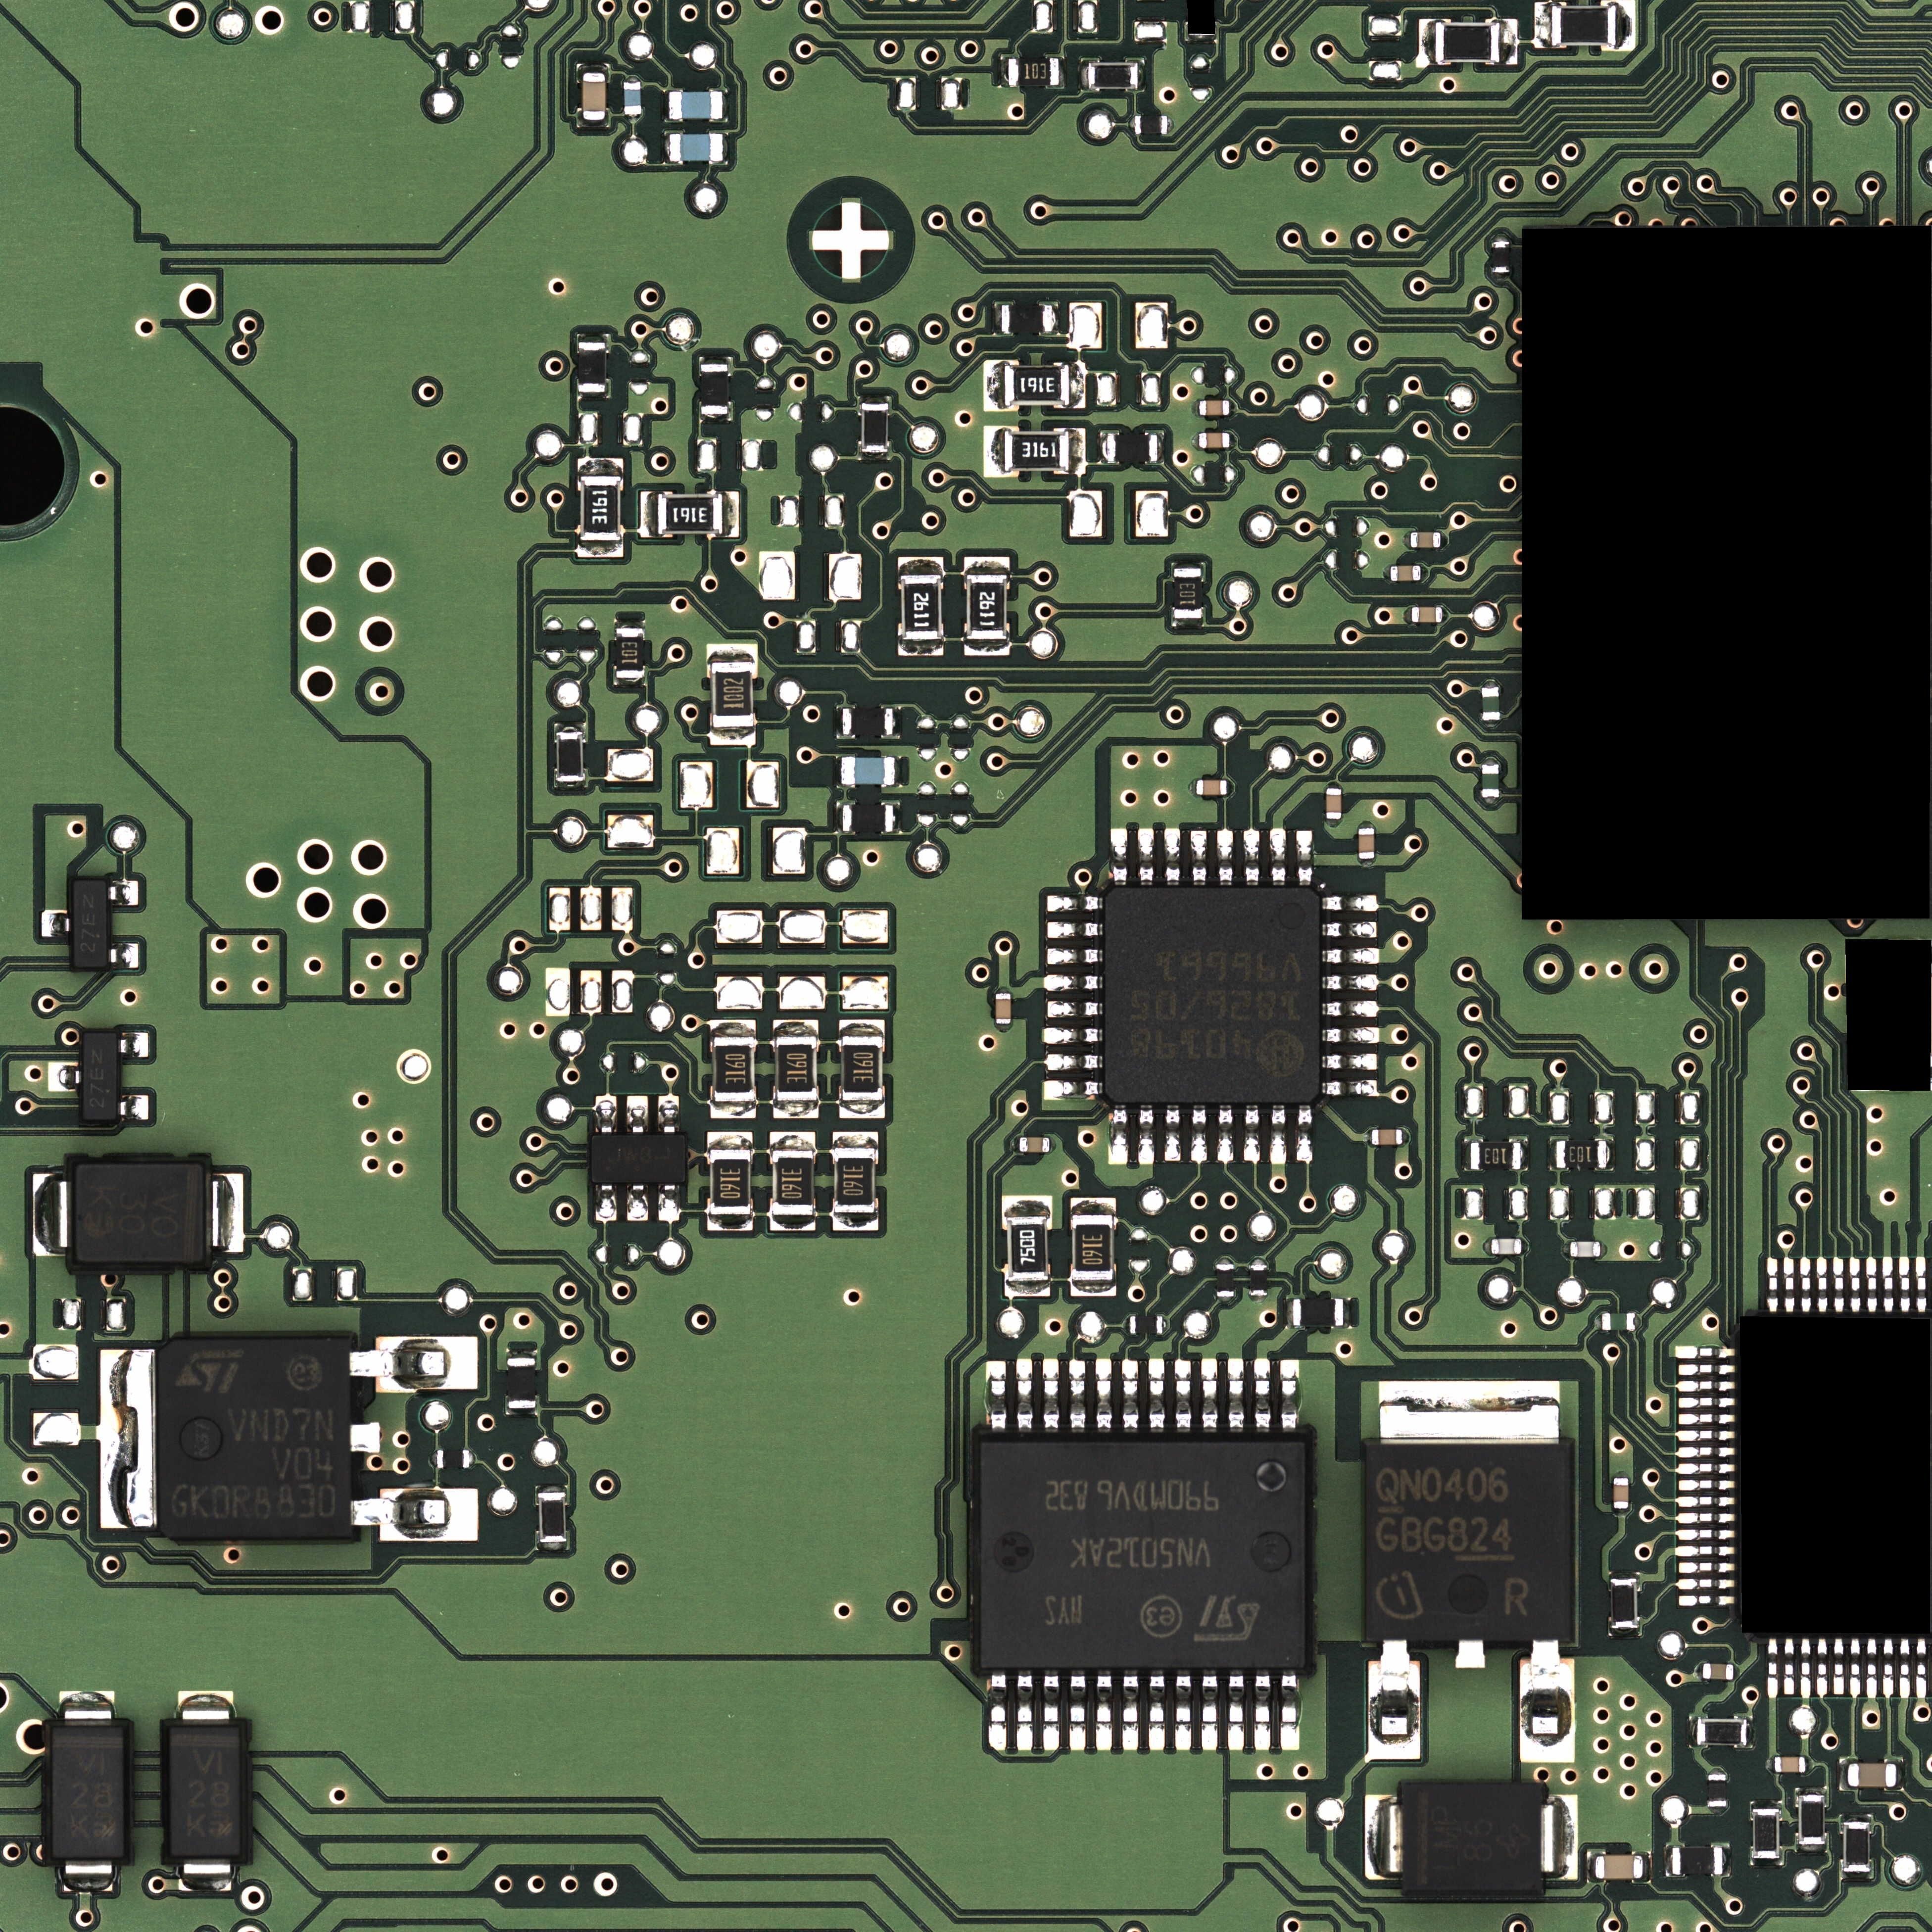Package: (978, 1442, 1306, 1668), (1104, 886, 1320, 1102), (1366, 1444, 1573, 1638), (156, 1338, 350, 1537), (1405, 1785, 1541, 1890), (74, 1164, 205, 1263), (50, 1727, 124, 1858), (168, 1727, 241, 1858), (591, 1134, 686, 1184), (81, 1031, 119, 1122), (71, 879, 108, 968), (1003, 364, 1070, 407), (711, 662, 754, 727), (833, 1148, 876, 1214), (713, 1037, 755, 1102), (775, 1037, 817, 1100), (840, 1037, 883, 1100), (901, 575, 941, 640), (580, 476, 621, 541), (773, 1150, 814, 1215), (1072, 1215, 1113, 1281), (658, 494, 722, 534), (709, 1150, 750, 1214), (966, 575, 1007, 639), (1552, 5, 1615, 46), (1007, 1217, 1047, 1281), (1003, 432, 1069, 471), (1435, 23, 1499, 62), (840, 757, 895, 786), (669, 133, 722, 161), (669, 92, 722, 120), (842, 708, 893, 736), (1008, 58, 1060, 87), (1001, 304, 1053, 333), (1106, 433, 1157, 462), (1672, 1847, 1723, 1875), (616, 628, 644, 678), (701, 364, 729, 414), (508, 1359, 536, 1408), (1293, 1299, 1343, 1327), (842, 805, 893, 832), (1555, 1141, 1606, 1168), (1470, 1143, 1522, 1169), (540, 1493, 566, 1543), (1175, 568, 1201, 617), (1844, 1822, 1870, 1872), (579, 343, 605, 391), (862, 403, 888, 451), (1088, 64, 1138, 88), (1697, 1720, 1746, 1744), (1612, 1578, 1637, 1628), (1753, 1808, 1778, 1858), (557, 732, 582, 780), (1849, 1762, 1897, 1787), (1799, 1796, 1824, 1844), (1596, 1854, 1642, 1879), (582, 73, 605, 120), (1481, 764, 1500, 798), (1134, 115, 1168, 134), (437, 1451, 471, 1468), (1483, 686, 1500, 720), (1129, 1316, 1162, 1334), (1601, 1313, 1635, 1330), (1217, 1263, 1235, 1297), (1491, 242, 1511, 272), (1709, 1775, 1727, 1806), (625, 81, 640, 115), (996, 993, 1012, 1024), (1196, 780, 1228, 796), (1614, 1477, 1629, 1509), (1371, 1129, 1403, 1145), (1702, 1663, 1734, 1679), (1775, 1757, 1806, 1773), (1359, 828, 1375, 858), (1325, 789, 1341, 819), (1200, 400, 1230, 416), (1200, 432, 1230, 448), (1412, 607, 1442, 623), (1410, 533, 1440, 548), (1491, 1238, 1522, 1254), (1569, 1242, 1599, 1258), (1251, 1265, 1267, 1295), (1391, 566, 1421, 580), (1019, 1138, 1049, 1152)
Solder: (1380, 1382, 1559, 1444), (99, 1348, 154, 1529), (350, 1338, 479, 1392), (1520, 1640, 1575, 1762), (354, 1488, 478, 1541), (1368, 1638, 1421, 1759), (34, 1175, 74, 1256), (1364, 1794, 1403, 1879), (1541, 1794, 1578, 1881), (205, 1173, 244, 1253), (177, 1690, 234, 1725), (177, 1858, 234, 1891), (60, 1691, 115, 1725), (60, 1859, 115, 1891), (1069, 1670, 1088, 1752), (1253, 1670, 1272, 1752), (989, 1670, 1007, 1752), (1017, 1670, 1035, 1752), (1042, 1670, 1060, 1752), (1095, 1670, 1113, 1752), (1123, 1670, 1141, 1752), (1148, 1670, 1166, 1752), (1175, 1670, 1192, 1752), (1201, 1670, 1219, 1752), (1228, 1670, 1246, 1752), (1281, 1670, 1299, 1752), (987, 1361, 1007, 1433), (1122, 1359, 1139, 1435), (1281, 1359, 1299, 1435), (1228, 1357, 1246, 1433), (1254, 1359, 1272, 1433), (1095, 1359, 1113, 1433), (1148, 1359, 1166, 1433), (1069, 1361, 1086, 1433), (1175, 1359, 1191, 1433), (1042, 1359, 1058, 1433), (1201, 1359, 1217, 1433), (1016, 1359, 1031, 1433), (1109, 1106, 1129, 1166), (1044, 1079, 1102, 1099), (1044, 1053, 1102, 1072), (1044, 973, 1102, 993), (984, 359, 1003, 412), (1044, 1026, 1102, 1044), (48, 1062, 81, 1092), (1323, 1026, 1380, 1044), (1046, 1000, 1102, 1017), (1323, 973, 1380, 991), (984, 426, 1003, 478), (1001, 1196, 1053, 1215), (1323, 895, 1378, 913), (1047, 922, 1102, 939), (1323, 920, 1378, 938), (1047, 895, 1102, 913), (1323, 1053, 1378, 1070), (1323, 1079, 1378, 1097), (1323, 1000, 1378, 1017), (1138, 1106, 1154, 1166), (350, 1422, 380, 1454), (1217, 1106, 1233, 1164), (1297, 1106, 1313, 1164), (1270, 1106, 1286, 1164), (1244, 1106, 1260, 1164), (1270, 828, 1286, 885), (1111, 828, 1127, 885), (1138, 828, 1154, 885), (1323, 948, 1380, 964), (1164, 828, 1180, 885), (1191, 1106, 1207, 1162), (1164, 1106, 1180, 1162), (1454, 1640, 1486, 1668), (708, 644, 757, 662), (1617, 2, 1635, 51), (1191, 830, 1207, 885), (1297, 830, 1313, 885), (1217, 830, 1233, 885), (1244, 830, 1260, 885), (832, 1214, 879, 1231), (1069, 428, 1086, 476), (1047, 948, 1100, 964), (626, 1095, 648, 1134), (577, 458, 623, 476), (639, 492, 656, 538), (773, 1100, 819, 1118), (839, 1100, 885, 1118), (770, 1132, 816, 1150), (709, 1019, 755, 1037), (773, 1019, 819, 1037), (1500, 19, 1518, 65), (41, 909, 69, 938), (626, 1184, 648, 1221), (594, 1184, 616, 1221), (658, 1184, 679, 1221), (899, 557, 943, 575), (708, 1132, 752, 1150), (577, 541, 625, 557), (1419, 19, 1435, 67), (1534, 2, 1550, 50), (658, 1095, 678, 1134), (596, 1095, 616, 1134), (108, 881, 138, 906), (119, 1033, 149, 1058), (119, 1095, 149, 1120), (709, 729, 755, 745), (724, 492, 740, 538), (708, 1215, 754, 1231), (709, 1102, 755, 1118), (770, 1215, 816, 1231), (839, 1019, 885, 1035), (1070, 363, 1086, 409), (964, 557, 1010, 573), (964, 640, 1010, 656), (1070, 1198, 1116, 1214), (1070, 1281, 1116, 1297), (1005, 1281, 1051, 1297), (899, 640, 943, 656), (833, 1132, 878, 1148), (110, 943, 138, 968), (1916, 1638, 1927, 1698), (1867, 1638, 1877, 1698), (1675, 1479, 1736, 1490), (1675, 1346, 1736, 1357), (1675, 1414, 1736, 1424), (1677, 1596, 1736, 1606), (1851, 1638, 1861, 1697), (1833, 1638, 1844, 1697), (1817, 1638, 1828, 1697), (1767, 1638, 1778, 1697), (1677, 1578, 1736, 1589), (1677, 1562, 1736, 1573), (1677, 1513, 1736, 1523), (1675, 1364, 1734, 1375), (1675, 1380, 1734, 1391), (1675, 1398, 1734, 1408), (1677, 1447, 1736, 1458), (1677, 1463, 1736, 1474), (1783, 1638, 1794, 1695), (1916, 1256, 1927, 1313), (1783, 1256, 1794, 1313), (1767, 1256, 1778, 1313), (1900, 1256, 1911, 1311), (1882, 1256, 1893, 1311), (1867, 1256, 1877, 1311), (1851, 1256, 1861, 1311), (1835, 1256, 1845, 1311), (1817, 1256, 1828, 1311), (1801, 1256, 1812, 1311), (1900, 1638, 1909, 1698), (1884, 1638, 1893, 1698), (1677, 1546, 1737, 1555), (1801, 1638, 1810, 1697), (1677, 1497, 1736, 1506), (1677, 1530, 1736, 1539), (1677, 1431, 1736, 1440), (1608, 1628, 1640, 1638), (1343, 1297, 1353, 1327), (1000, 55, 1008, 88), (699, 414, 731, 423), (554, 722, 586, 731), (614, 678, 646, 686), (536, 1543, 568, 1552), (1284, 1297, 1293, 1329), (1840, 1813, 1872, 1822), (1752, 1858, 1783, 1867), (1838, 1759, 1847, 1790), (1587, 1851, 1596, 1882), (1750, 1799, 1782, 1808), (1897, 1759, 1905, 1790), (860, 395, 890, 403), (579, 64, 609, 73), (614, 619, 644, 628), (536, 1484, 566, 1493), (1079, 60, 1088, 90), (993, 304, 1001, 334), (1688, 1716, 1697, 1746), (1842, 1872, 1872, 1881), (1187, 35, 1217, 44), (1099, 430, 1106, 465), (1171, 619, 1205, 626), (577, 334, 609, 341), (577, 120, 609, 127), (722, 133, 729, 165), (663, 131, 671, 163), (577, 393, 609, 400), (662, 90, 669, 122), (554, 782, 586, 789), (893, 706, 901, 738), (893, 801, 901, 833), (835, 706, 842, 738), (506, 1408, 538, 1415), (506, 1350, 538, 1357), (1157, 432, 1164, 464), (1053, 303, 1060, 334), (1171, 561, 1203, 568), (1463, 1139, 1470, 1171), (1606, 1138, 1614, 1169), (1522, 1139, 1529, 1171), (1796, 1845, 1828, 1852), (1665, 1845, 1672, 1877), (1723, 1844, 1730, 1875), (701, 357, 731, 364), (858, 453, 888, 460), (722, 90, 729, 120), (895, 755, 902, 786), (835, 803, 842, 833), (1138, 60, 1145, 90), (1746, 1716, 1753, 1746), (1796, 1787, 1826, 1794), (1644, 1852, 1651, 1882), (1610, 1571, 1638, 1578), (1481, 798, 1500, 807), (835, 755, 840, 787), (1550, 1138, 1555, 1169), (1060, 57, 1065, 87), (1481, 755, 1499, 764), (1599, 1242, 1608, 1258), (430, 1449, 437, 1468), (1707, 1767, 1727, 1775), (1707, 1806, 1727, 1813), (1405, 605, 1412, 623), (1189, 778, 1196, 796), (994, 987, 1012, 994), (1162, 1316, 1169, 1334), (994, 1024, 1012, 1031), (1491, 235, 1509, 242), (1483, 720, 1500, 727), (1635, 1313, 1642, 1330), (1767, 1755, 1775, 1773), (1192, 400, 1200, 416), (1192, 432, 1200, 448), (1129, 117, 1136, 133), (1228, 780, 1235, 796), (1359, 821, 1375, 828), (1325, 782, 1341, 789), (1325, 819, 1341, 826), (1403, 1129, 1410, 1145), (1012, 1136, 1019, 1152), (1217, 1258, 1233, 1265), (1364, 1129, 1371, 1145), (1483, 679, 1499, 686), (1442, 607, 1449, 623), (1440, 533, 1447, 548), (1522, 1238, 1529, 1254), (1564, 1242, 1571, 1258), (1484, 1238, 1491, 1254), (1596, 1315, 1603, 1330), (1491, 274, 1511, 280), (1049, 1138, 1056, 1152), (471, 1451, 476, 1468), (1421, 564, 1426, 582), (1405, 531, 1410, 548), (1249, 1295, 1267, 1300), (1217, 1297, 1235, 1302), (476, 1491, 478, 1541), (625, 115, 640, 120), (625, 76, 640, 81), (1230, 400, 1235, 416), (1230, 432, 1235, 448), (1168, 117, 1173, 133), (1359, 860, 1375, 865), (1385, 566, 1391, 582), (1123, 1316, 1129, 1332), (1251, 1260, 1267, 1265), (1614, 1472, 1629, 1477), (1614, 1509, 1629, 1514), (1806, 1757, 1812, 1773), (1697, 1663, 1702, 1679), (1734, 1665, 1739, 1679)
